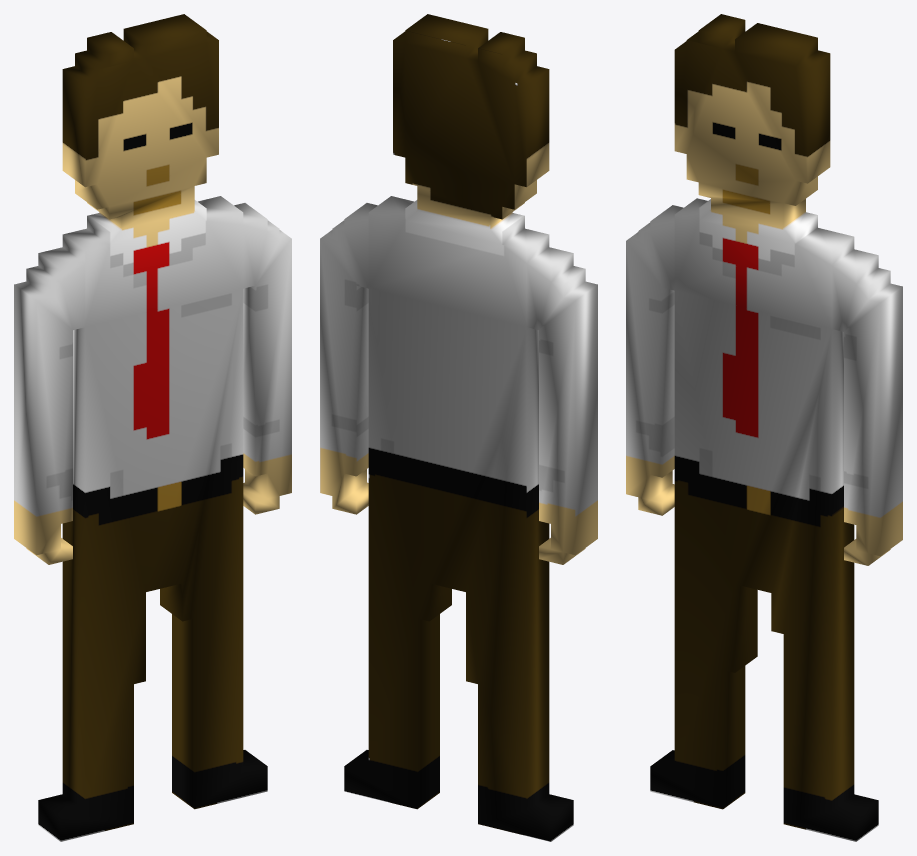
The model's file is techie.obj.
The picture shows the model from 3 angles, left to right: view 1: azimuth 30°, elevation 25°; view 2: azimuth 150°, elevation 25°; view 3: azimuth 330°, elevation 25°; orthographic projection.
Visible parts, largest first — view 1: c:/Documents and Settings/v21/My Documents/My Dropbox/joebabies/; view 2: c:/Documents and Settings/v21/My Documents/My Dropbox/joebabies/; view 3: c:/Documents and Settings/v21/My Documents/My Dropbox/joebabies/.
Boxes of the visible parts, x1,y1,x2,y2 form: c:/Documents and Settings/v21/My Documents/My Dropbox/joebabies/: (14, 14, 291, 841); c:/Documents and Settings/v21/My Documents/My Dropbox/joebabies/: (320, 14, 597, 841); c:/Documents and Settings/v21/My Documents/My Dropbox/joebabies/: (626, 14, 902, 841).
Size of the model in its own units: 3.36 by 9.76 by 0.5117.
